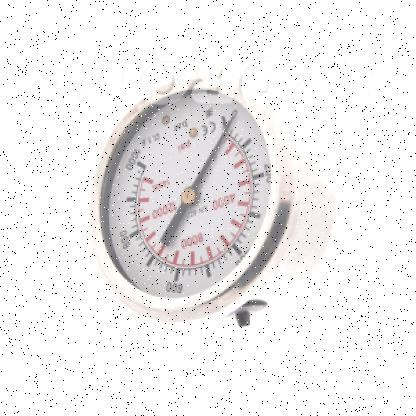needle: (188, 115, 236, 192)
